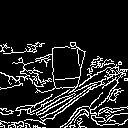cube: (49, 43, 83, 92)
